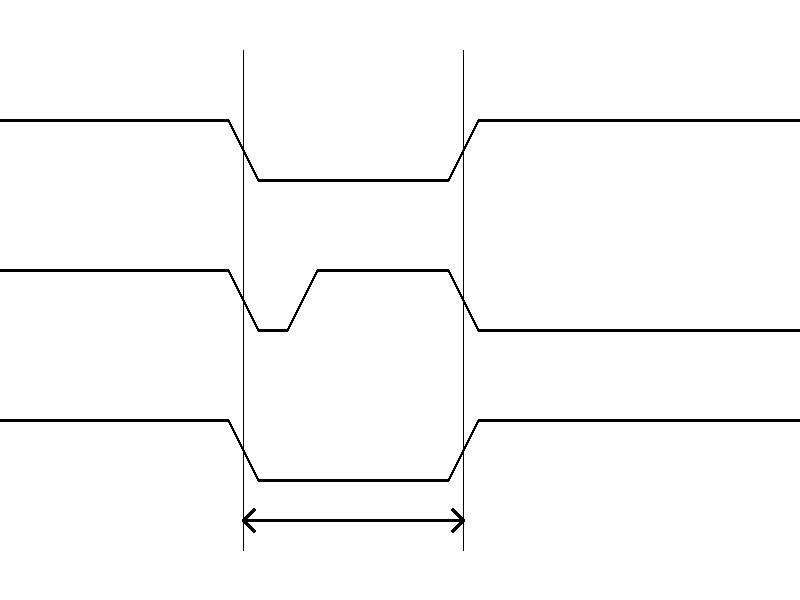double_arrow: (243, 505, 463, 535)
